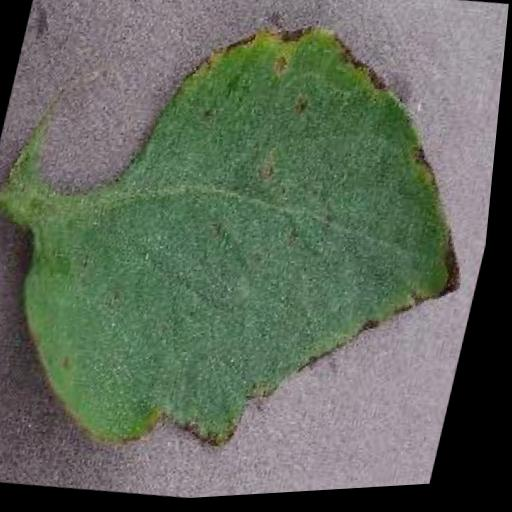Bacterial Spot: (0, 0, 511, 496)
